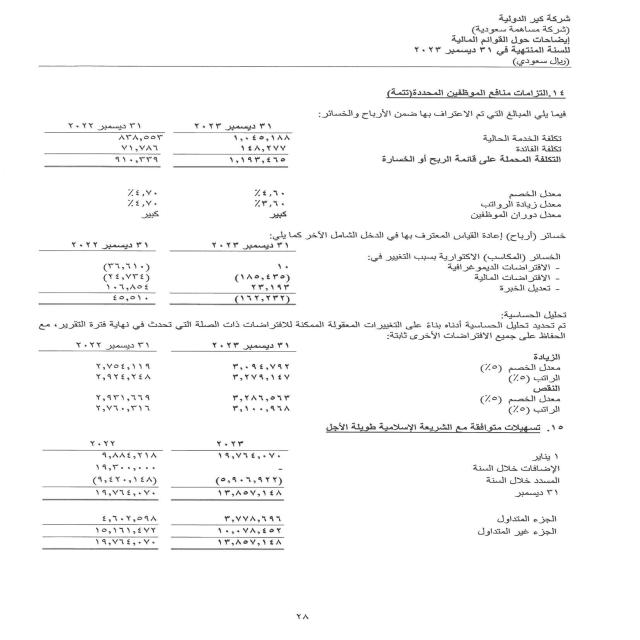notes: (433, 35, 582, 48)
table: (28, 432, 294, 558), (20, 115, 308, 224), (21, 238, 308, 317), (42, 340, 306, 419)
